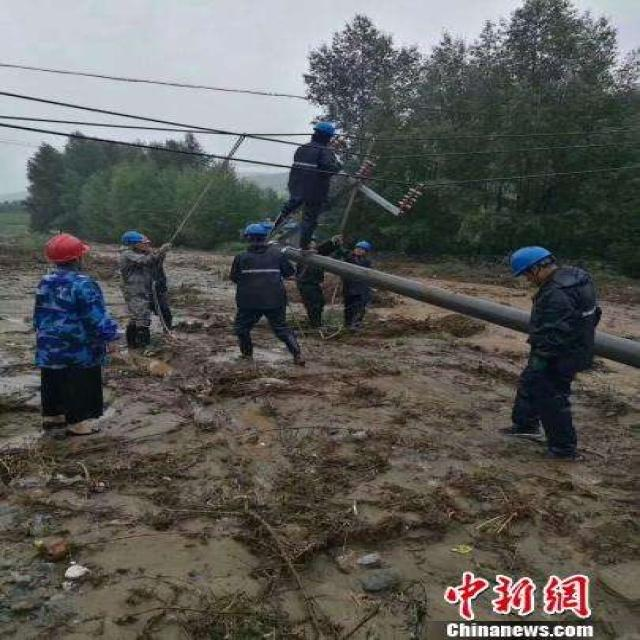helmet: (509, 323, 553, 380), (45, 312, 86, 364), (121, 306, 154, 342), (310, 160, 335, 193), (242, 294, 267, 326), (351, 319, 372, 344)
